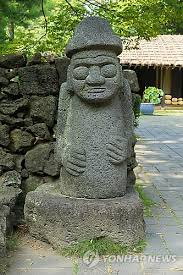Stone Statue: (30, 10, 149, 256)
